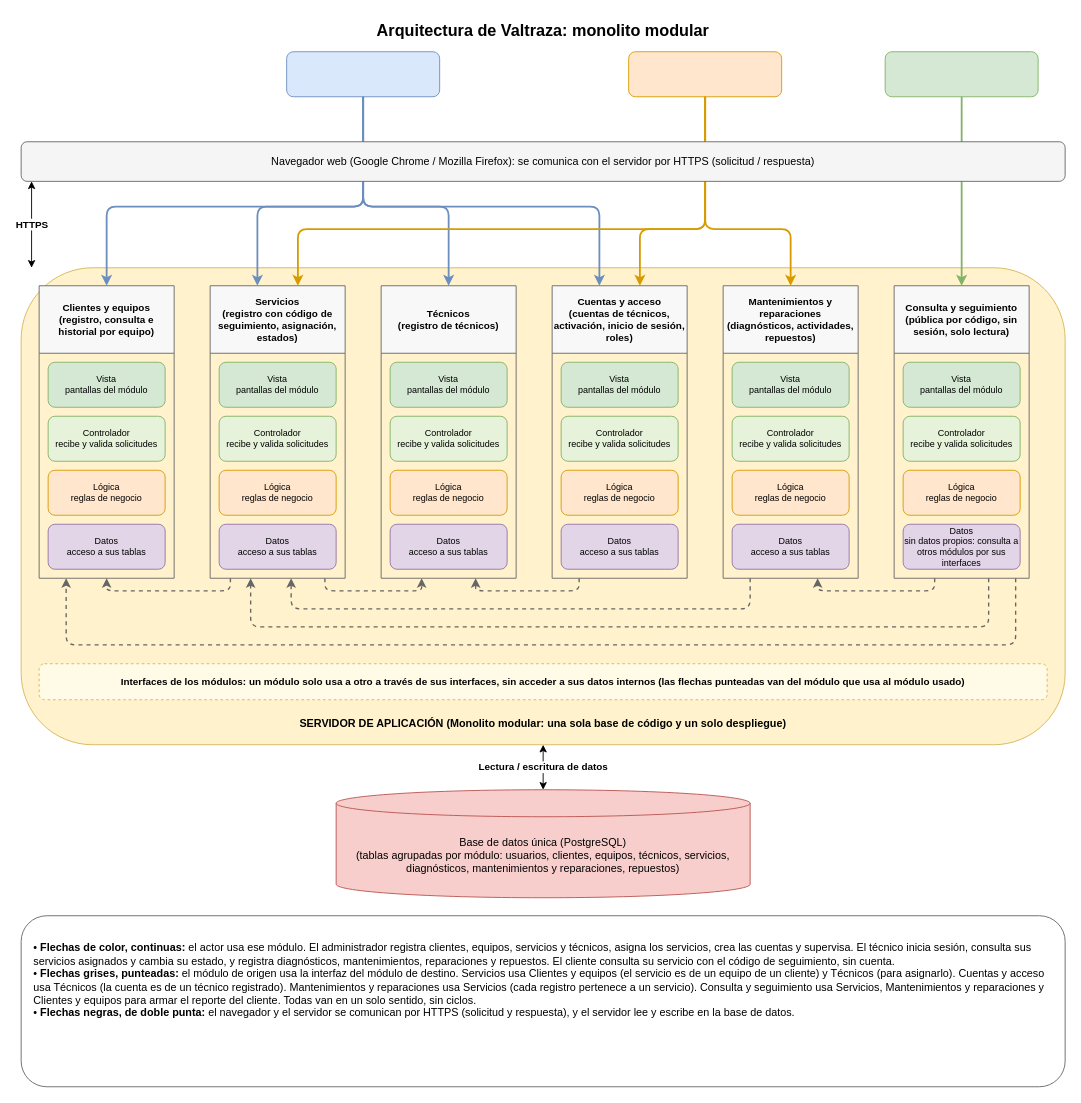
This 1081x1103 diagram has some shape labels left out. Each missing label, with the centre of its shape:
Administrador: the point at 363,74
Cliente (sin cuenta): the point at 961,74
Técnico: the point at 705,74
